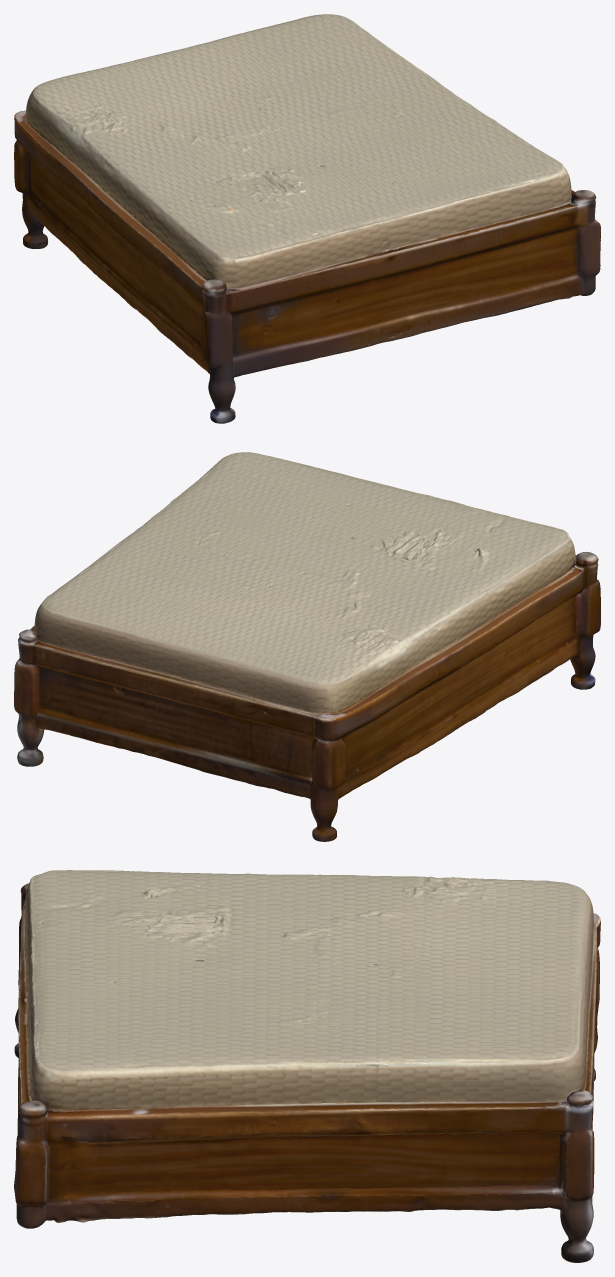
File: wood-bed-lux3d-original.glb
3 renders of one model, top to bottom at view 1: azimuth 30°, elevation 25°; view 2: azimuth 150°, elevation 25°; view 3: azimuth 270°, elevation 25°, orthographic. The views are drawn at different scales.
Parts seen in each view (by area): view 1: geometry_0; view 2: geometry_0; view 3: geometry_0.
Boxes of the visible parts, left/top/right/bottom form: geometry_0: left=14, top=14, right=600, bottom=423; geometry_0: left=14, top=452, right=600, bottom=841; geometry_0: left=14, top=870, right=600, bottom=1262.
Size of the model in its own units: 2 by 0.8049 by 2.13.
Materials: 1 (1 with a texture image).
